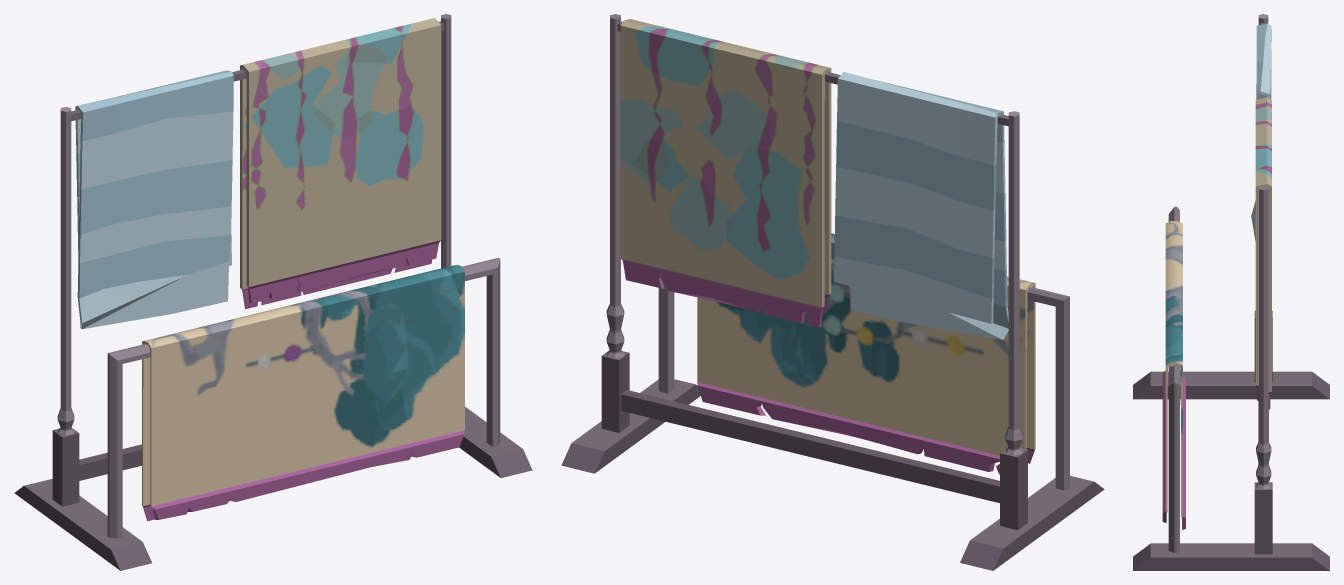
File: SM_Prop_Clothes_Rack_01_Preset_04.fbx
3 views of the same model, side by side, from view 1: azimuth 30°, elevation 25°; view 2: azimuth 150°, elevation 25°; view 3: azimuth 270°, elevation 25° (orthographic). The views are drawn at different scales.
Visible parts, largest first — view 1: SM_Prop_Clothes_Rack_01_Preset_05; view 2: SM_Prop_Clothes_Rack_01_Preset_05; view 3: SM_Prop_Clothes_Rack_01_Preset_05.
Part boxes in pixels (left/top/right/bottom): SM_Prop_Clothes_Rack_01_Preset_05: left=14, top=14, right=532, bottom=570; SM_Prop_Clothes_Rack_01_Preset_05: left=561, top=14, right=1104, bottom=570; SM_Prop_Clothes_Rack_01_Preset_05: left=1133, top=14, right=1329, bottom=570.
Size of the model in its own units: 2.17 by 2.04 by 0.9692.
1 material, 1 textured.
